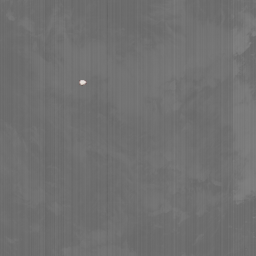Target: (78, 78, 87, 86)
